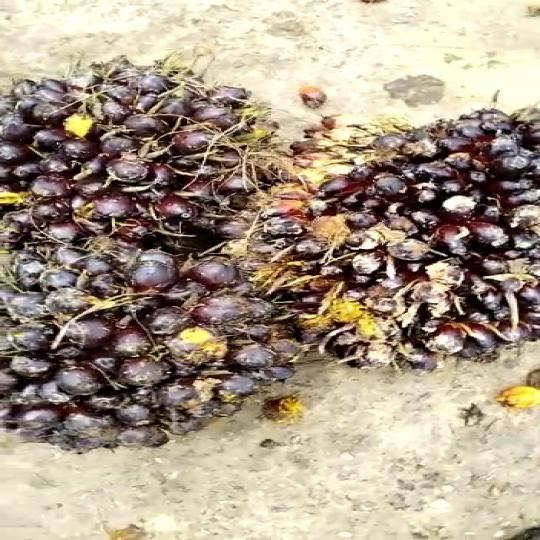mentah: (249, 99, 540, 369), (0, 240, 313, 457), (0, 52, 250, 246)
